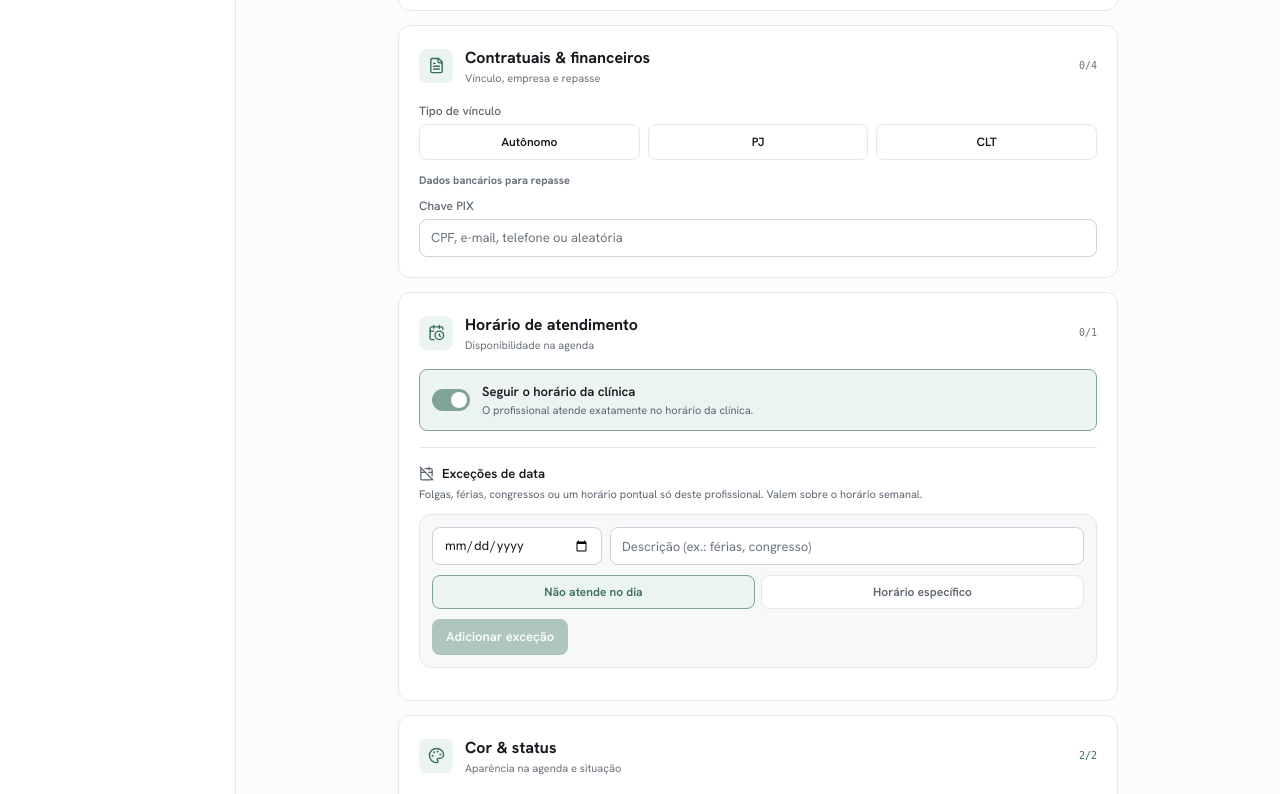
ProfessionalForm — novo › desligar "seguir a clínica" revela a grade por dia
(page scrolled)
Expected: the switch labelled "Segunda" is not shown
Click the switch named "Seguir o horário da clínica".
click(451, 400)  # box [432,389,470,411]
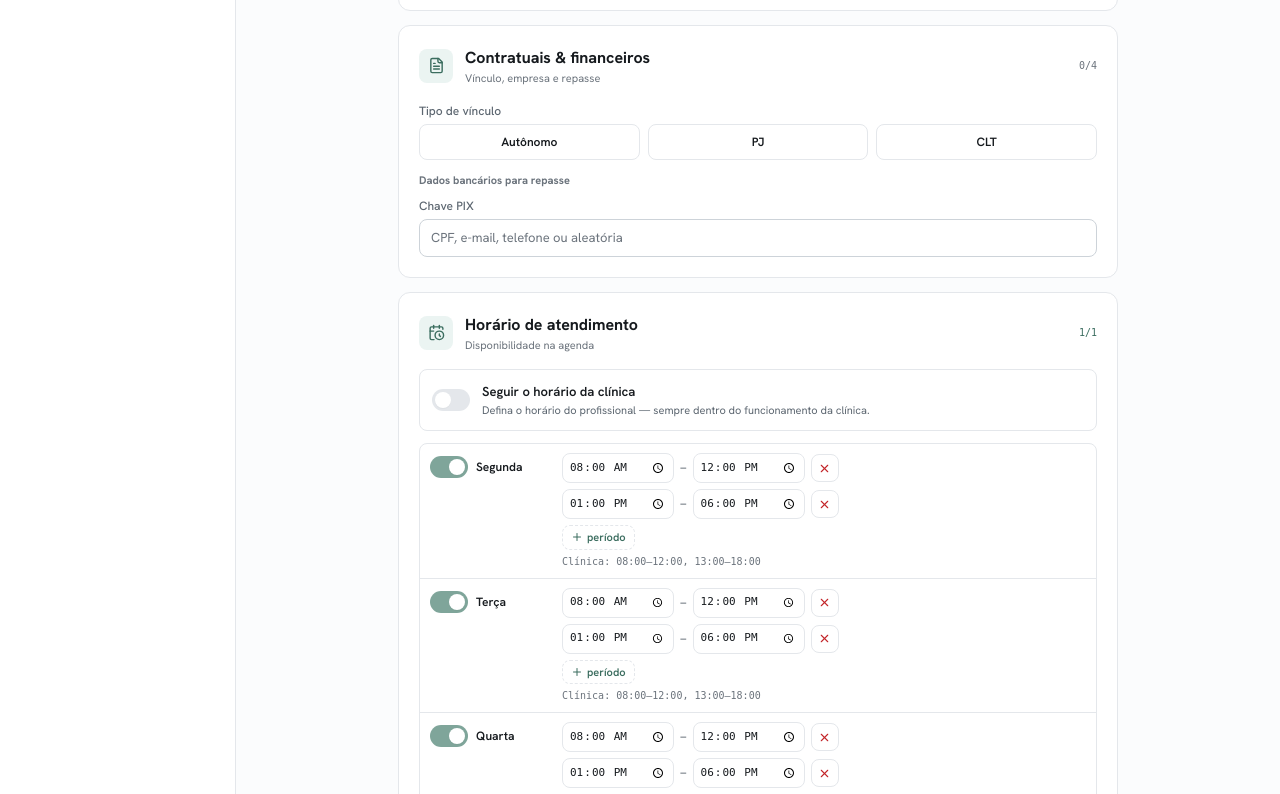
Result: the switch named "Segunda" is shown at [430,456,468,478]
